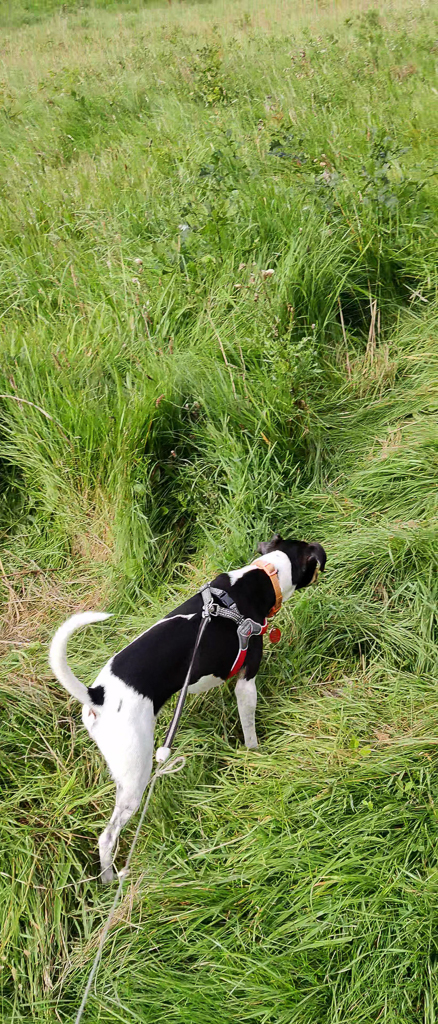Dog: (39, 500, 347, 906)
